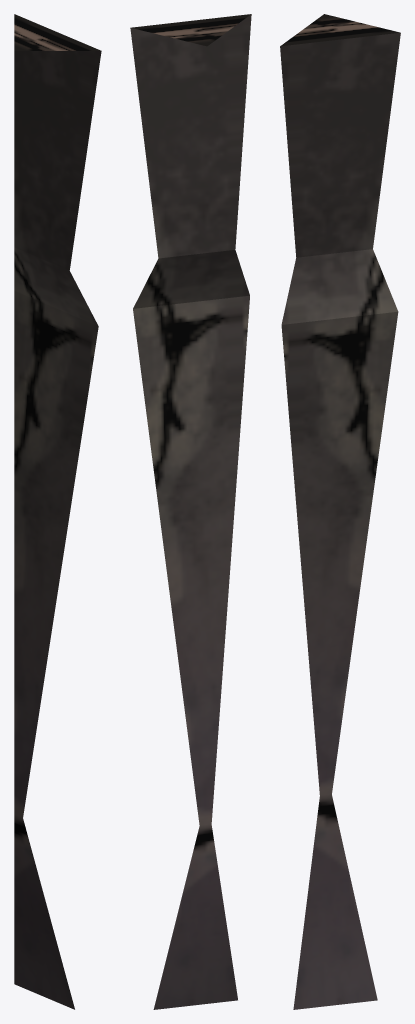
Rendered from Tunnel_WallCornerCap.fbx.
The picture shows the model from 3 angles, left to right: view 1: azimuth 90°, elevation 25°; view 2: azimuth 150°, elevation 25°; view 3: azimuth 330°, elevation 25°; orthographic projection.
Visible parts, largest first — view 1: TunnelWall_side28; view 2: TunnelWall_side28; view 3: TunnelWall_side28.
Part boxes in pixels (left/top/right/bottom): TunnelWall_side28: left=14, top=14, right=101, bottom=1009; TunnelWall_side28: left=130, top=14, right=251, bottom=1009; TunnelWall_side28: left=280, top=14, right=400, bottom=1009.
Bounding box in the file's own units: 0.824 × 10 × 0.824.
